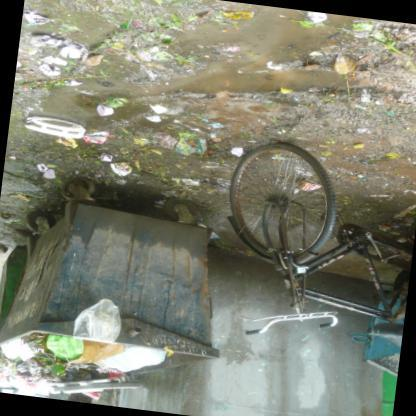Garbage: (0, 327, 171, 406), (68, 301, 146, 346), (46, 333, 95, 359), (0, 340, 27, 364), (156, 346, 156, 348)
